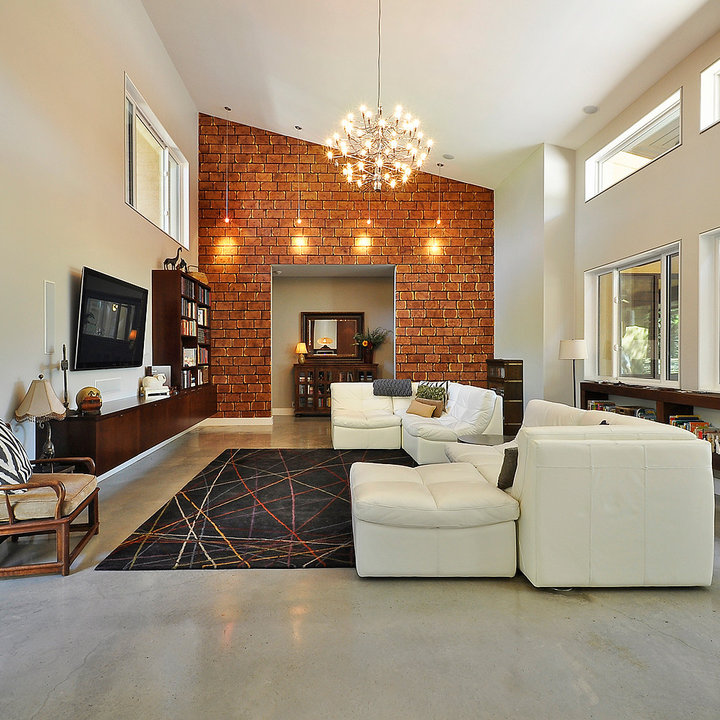TV: (69, 263, 150, 374)
TV stand: (34, 386, 220, 477)
chair: (2, 419, 101, 579)
floor lamp: (556, 333, 595, 402)
sofa: (347, 391, 717, 594), (320, 368, 507, 462)
table lamp: (11, 373, 68, 465)
